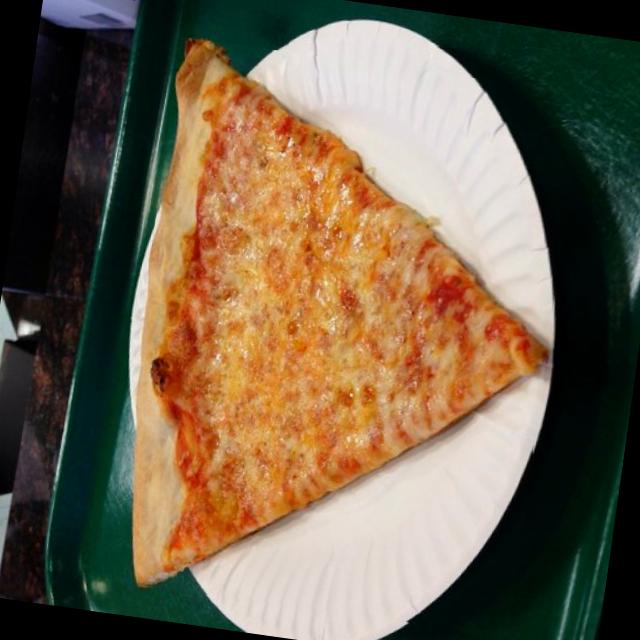pizza: (132, 41, 545, 586)
